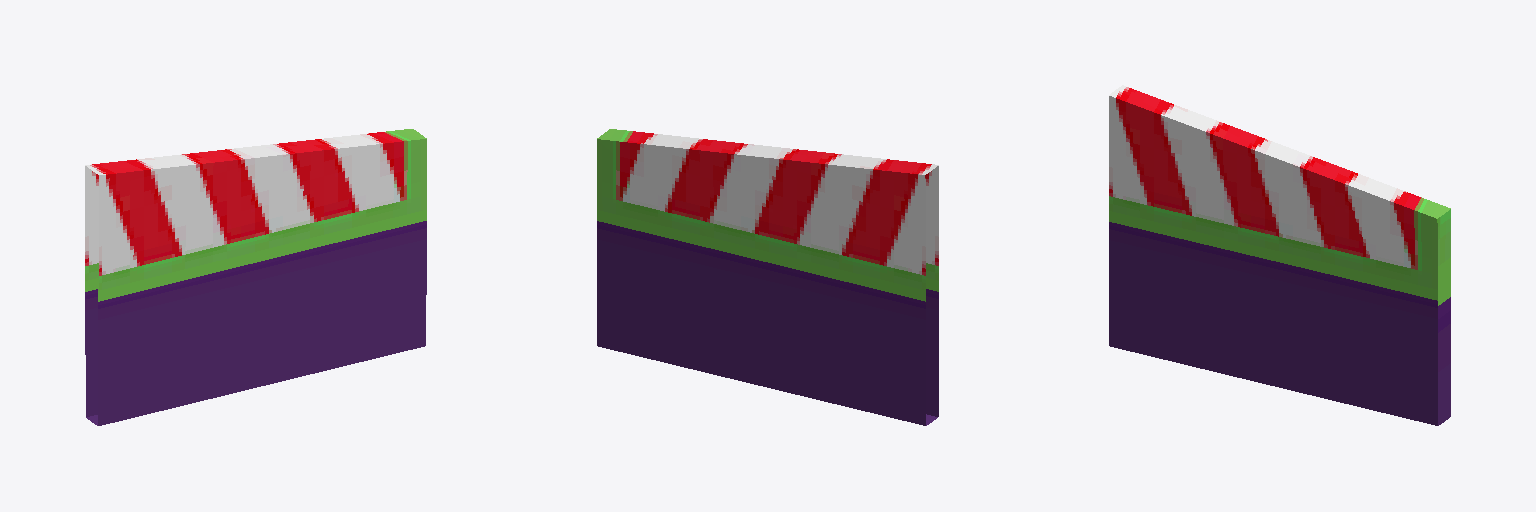
The picture shows the model from 3 angles: view 1: azimuth 30°, elevation 25°; view 2: azimuth 150°, elevation 25°; view 3: azimuth 330°, elevation 25°; orthographic projection.
Visible parts, largest first — view 1: buzzlightyLeftWing1_buzzlighty.001; view 2: buzzlightyLeftWing1_buzzlighty.001; view 3: buzzlightyLeftWing1_buzzlighty.001.
Part boxes in pixels (x1,y1,x2,y2): buzzlightyLeftWing1_buzzlighty.001: (85, 129, 426, 425); buzzlightyLeftWing1_buzzlighty.001: (597, 129, 938, 425); buzzlightyLeftWing1_buzzlighty.001: (1109, 85, 1450, 425).
Size of the model in its own units: 0.2634 by 0.1928 by 0.0199.
Materials: 1 (1 with a texture image).